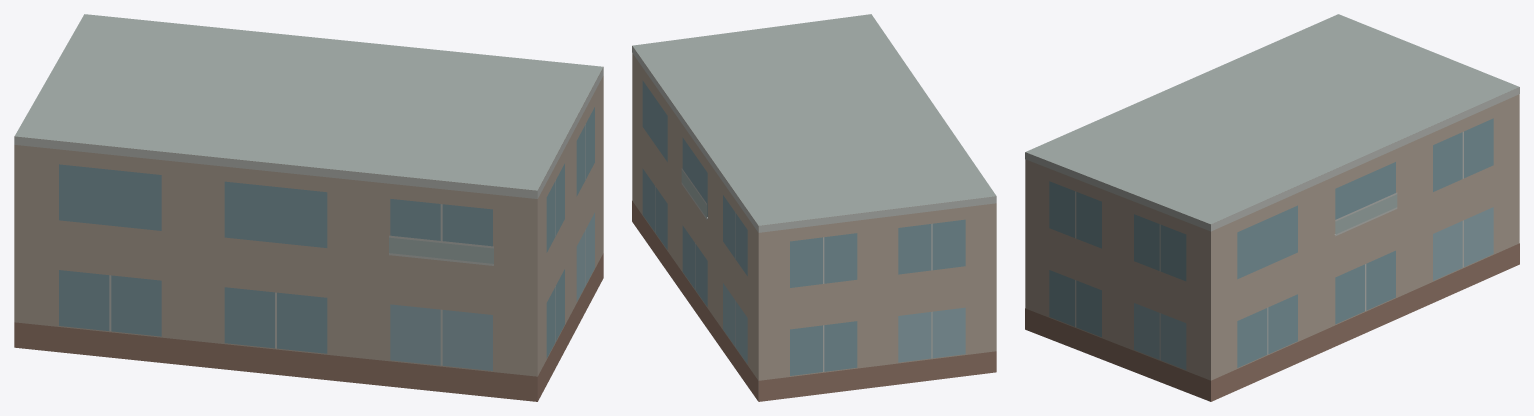
The model's file is survey-upis-32499858.glb.
3 views of the same model, side by side, from view 1: azimuth 30°, elevation 25°; view 2: azimuth 150°, elevation 25°; view 3: azimuth 270°, elevation 25° (orthographic). The views are drawn at different scales.
Parts seen in each view (by area): view 1: survey-upis-32499858.tmp; view 2: survey-upis-32499858.tmp; view 3: survey-upis-32499858.tmp.
Boxes of the visible parts, <box> form: survey-upis-32499858.tmp: <box>14,14,603,401</box>; survey-upis-32499858.tmp: <box>632,14,996,401</box>; survey-upis-32499858.tmp: <box>1025,14,1519,401</box>.
Size of the model in its own units: 15.52 by 6.1 by 15.41.
